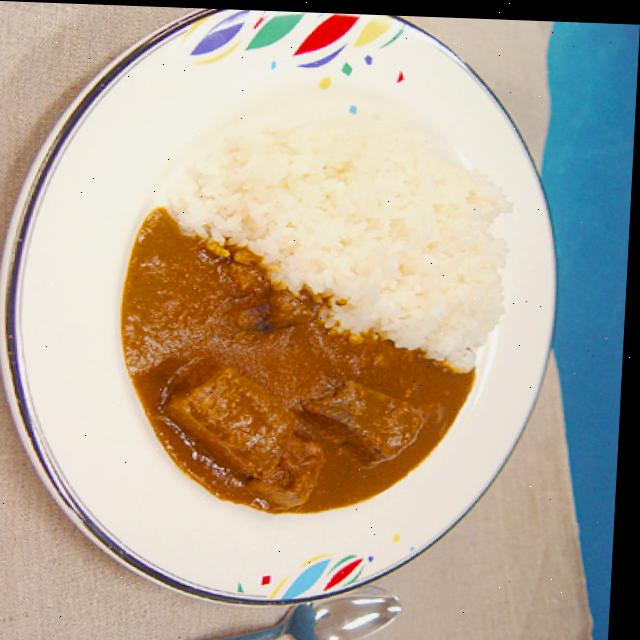牛肉菜式: (0, 1, 578, 610)
